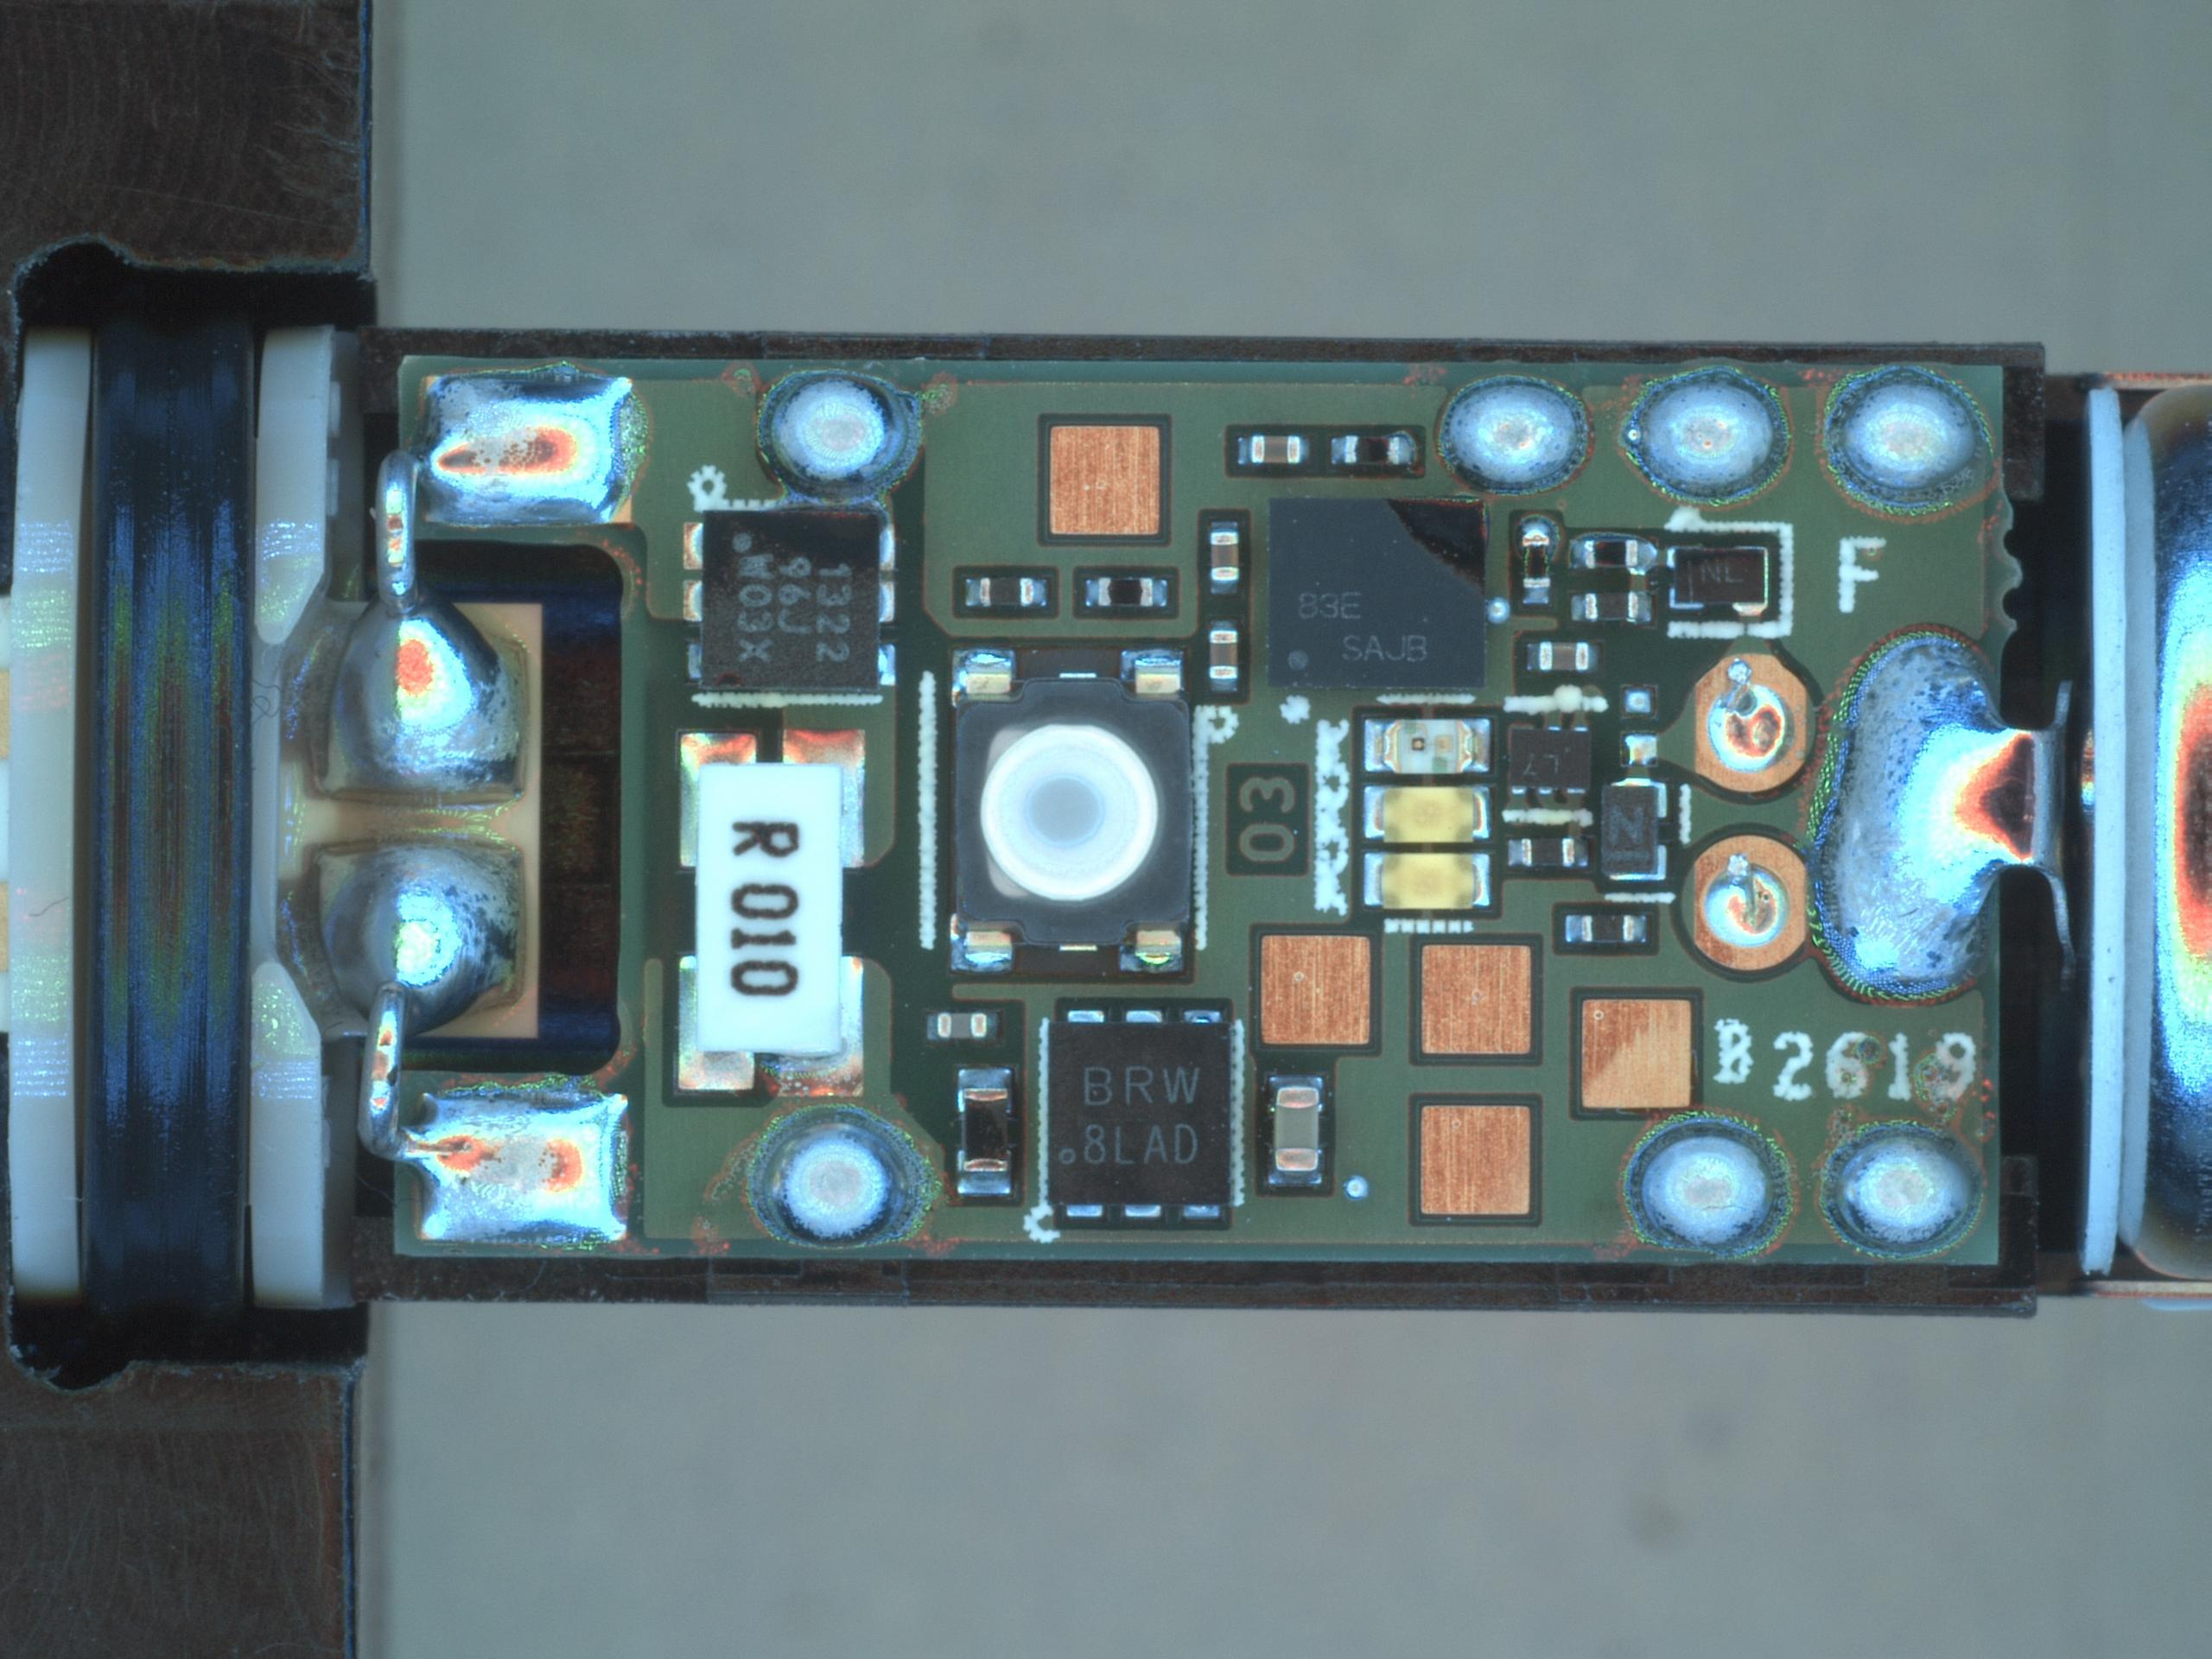solderball: (1341, 1173, 1371, 1201), (1487, 594, 1510, 624)
